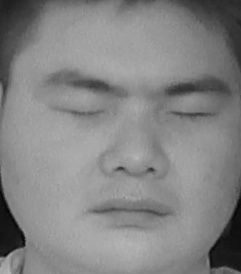blink: (55, 94, 104, 128), (171, 98, 216, 129)
mouth: (92, 190, 172, 231)
